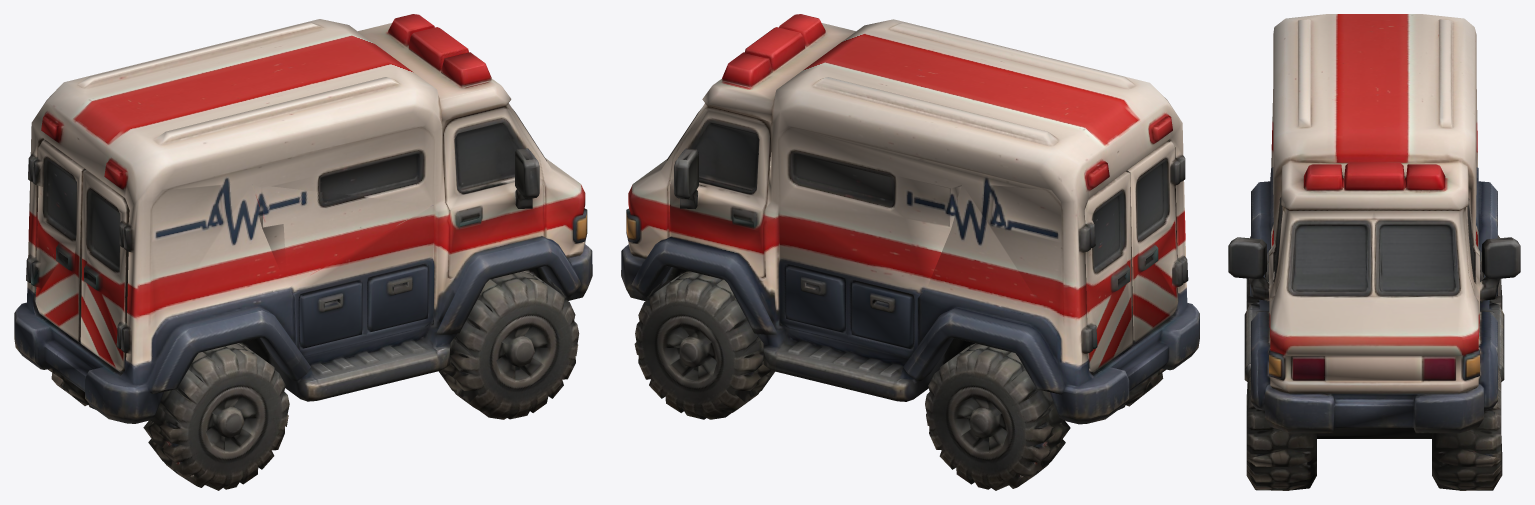
The model's file is LL_AngelTransponder.fbx.
3 views of the same model, side by side, from view 1: azimuth 30°, elevation 25°; view 2: azimuth 150°, elevation 25°; view 3: azimuth 270°, elevation 25° (orthographic). The views are drawn at different scales.
Parts seen in each view (by area): view 1: tripo_node_474073c8; view 2: tripo_node_474073c8; view 3: tripo_node_474073c8.
Part boxes in pixels (<box>): tripo_node_474073c8: <box>14,14,592,490</box>; tripo_node_474073c8: <box>621,14,1199,490</box>; tripo_node_474073c8: <box>1228,14,1520,490</box>.
Size of the model in its own units: 97.95 by 55.01 by 66.51.
Materials: 1 (1 with a texture image).
